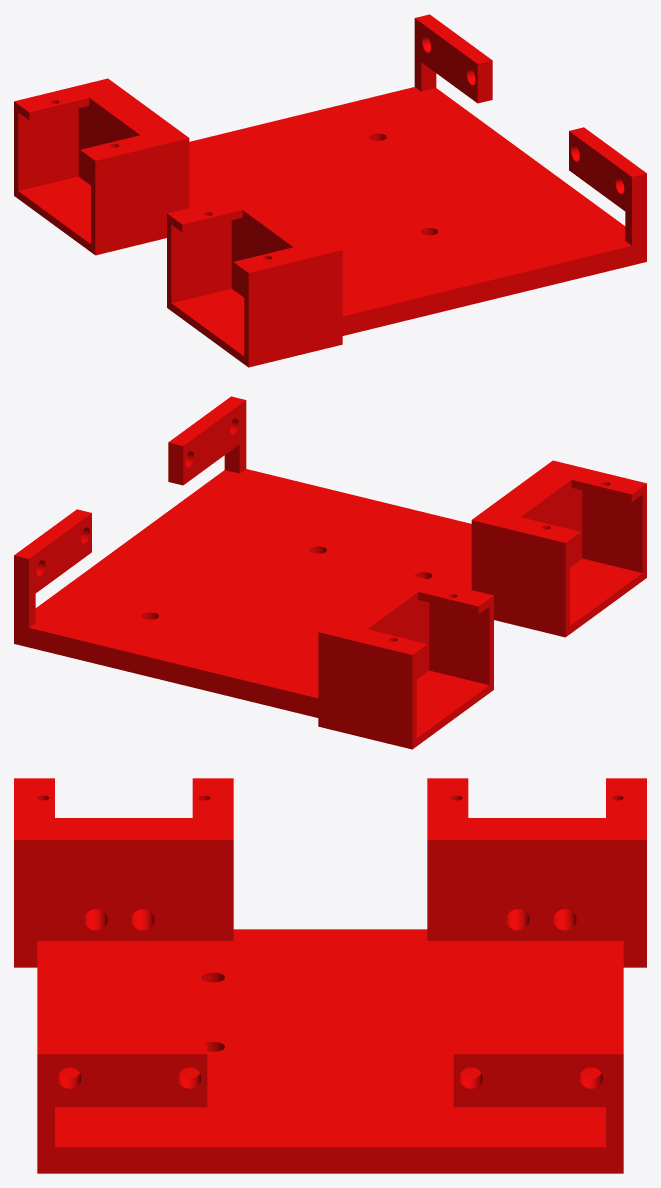
File: TorsoSim.dae
3 renders of one model, top to bottom at view 1: azimuth 30°, elevation 25°; view 2: azimuth 150°, elevation 25°; view 3: azimuth 270°, elevation 25°, orthographic. The views are drawn at different scales.
Visible parts, largest first — view 1: node; view 2: node; view 3: node.
Part boxes in pixels (bbox=[...]): node: bbox=[14, 14, 646, 367]; node: bbox=[14, 396, 646, 749]; node: bbox=[14, 778, 646, 1173].
Size of the model in its own units: 108 by 108 by 28.
